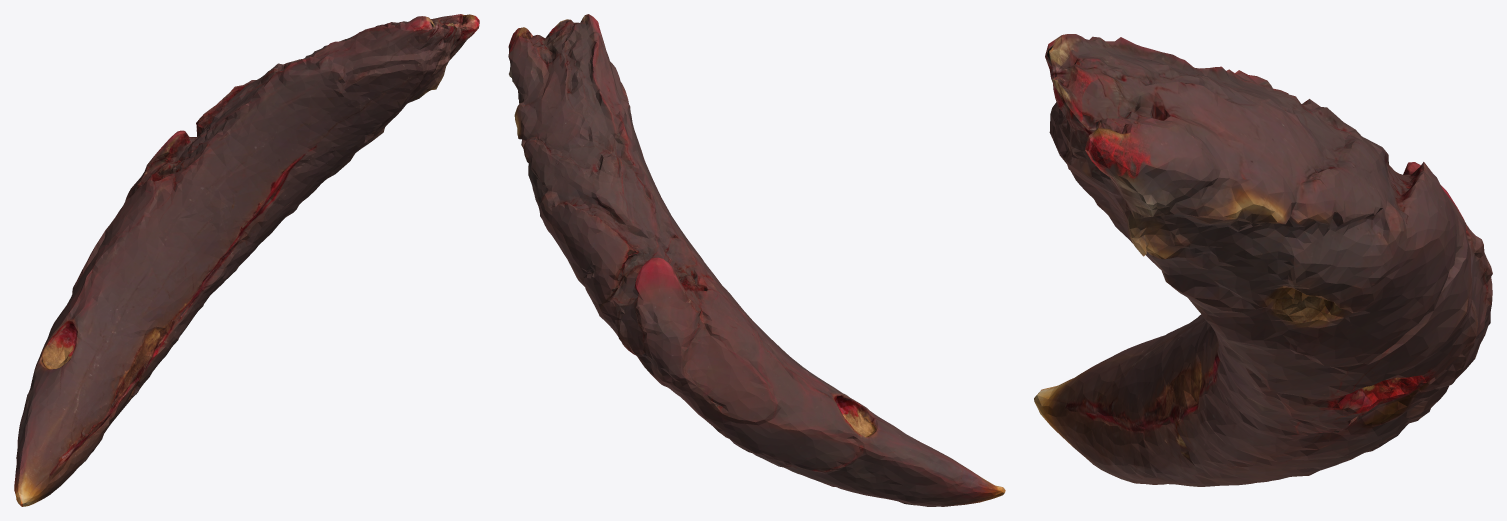
Rendered from DragonsTooth.fbx.
3 renders of one model, left to right at view 1: azimuth 30°, elevation 25°; view 2: azimuth 150°, elevation 25°; view 3: azimuth 270°, elevation 25°, orthographic. The views are drawn at different scales.
Visible parts, largest first — view 1: temp; view 2: temp; view 3: temp.
Boxes of the visible parts, bbox=[...] form: temp: bbox=[14, 14, 479, 506]; temp: bbox=[508, 14, 1005, 506]; temp: bbox=[1034, 34, 1492, 486].
Size of the model in its own units: 200 by 159 by 83.46.
Materials: 1 (1 with a texture image).
